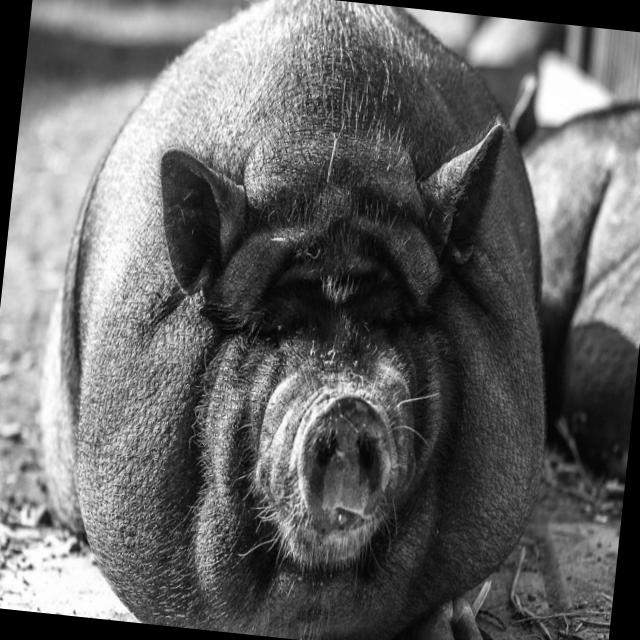pig: (40, 0, 544, 640), (523, 105, 640, 479)
